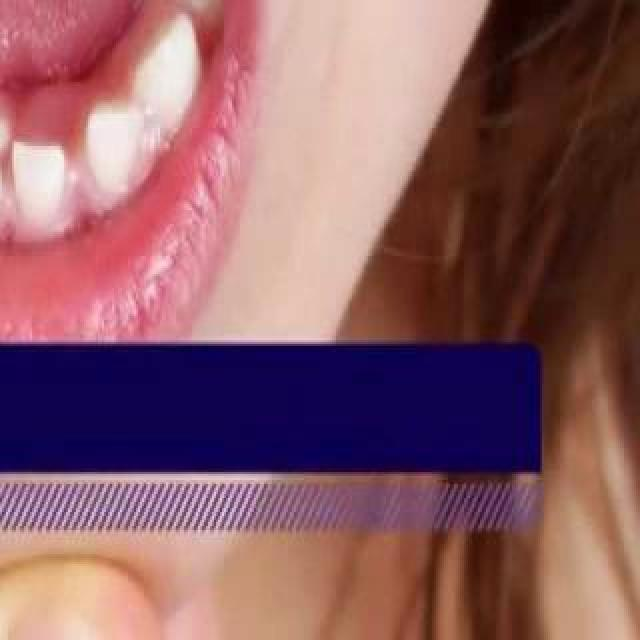maligned: (11, 126, 69, 214), (0, 100, 10, 160)
spacing: (59, 100, 101, 214), (168, 0, 218, 48), (0, 140, 26, 226)
